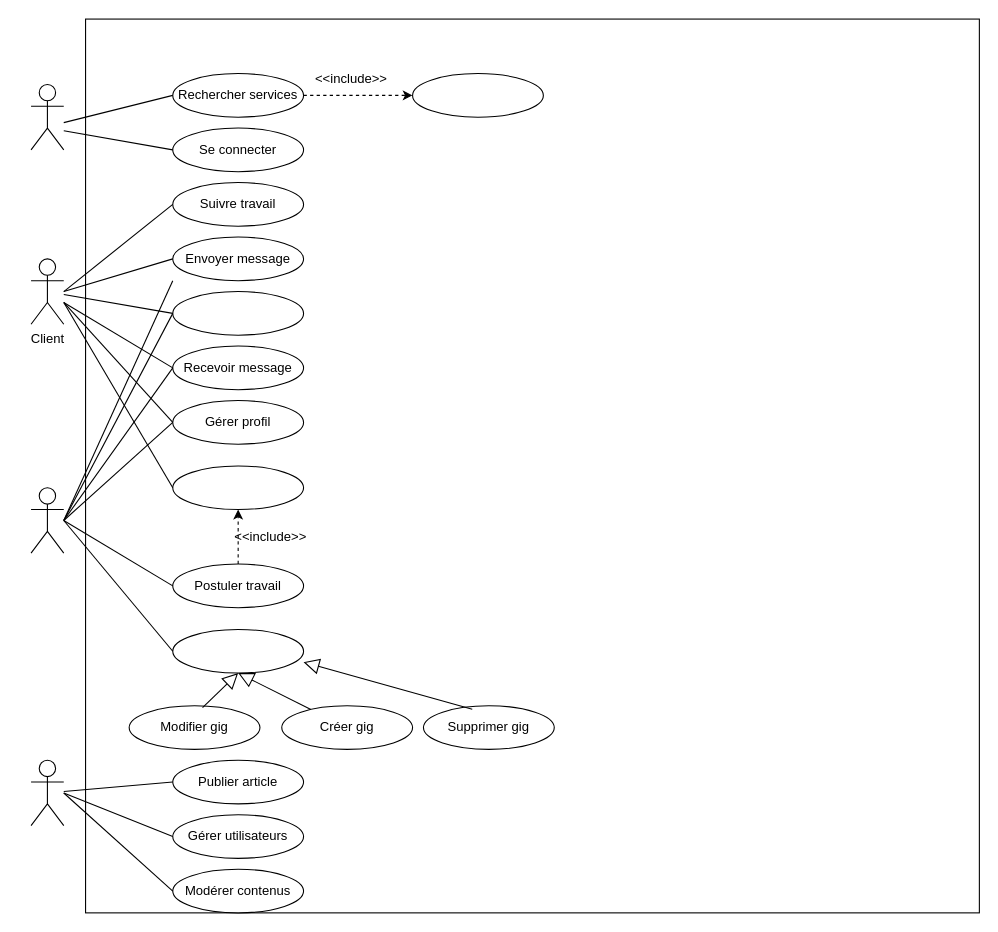
This 998x932 diagram has some shape labels left out. Here are the shapes that lost their labels. From the top down, the centre of each, then its label:
(477,94): Consulter Gigs
(47,116): Visiteur
(238,312): Commenter article
(238,487): Publier travail
(47,520): Freelance
(238,650): Gérer gig
(47,792): Admin
